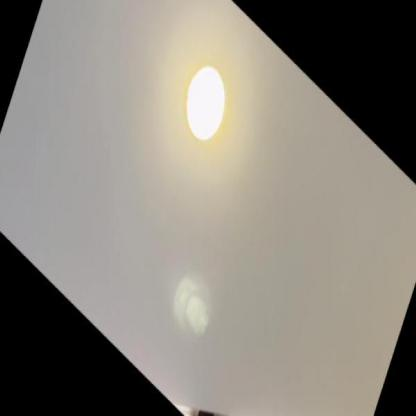light_on: (210, 324, 366, 414), (166, 30, 250, 170), (172, 384, 207, 415)
